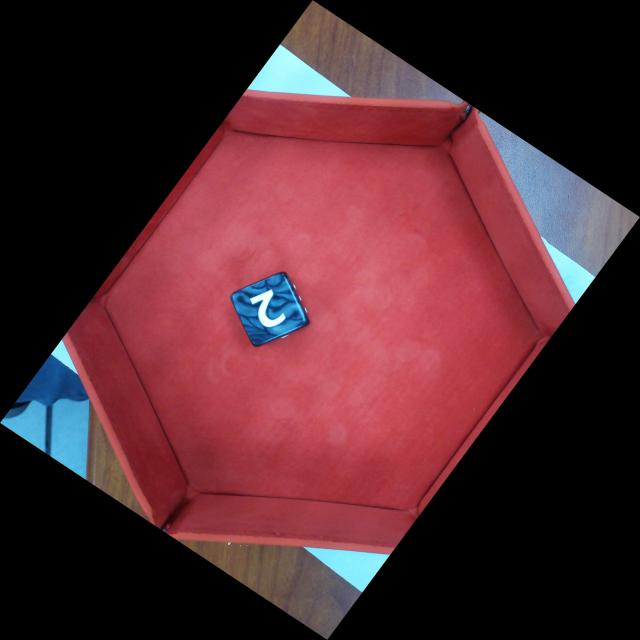dice: (231, 271, 310, 347)
